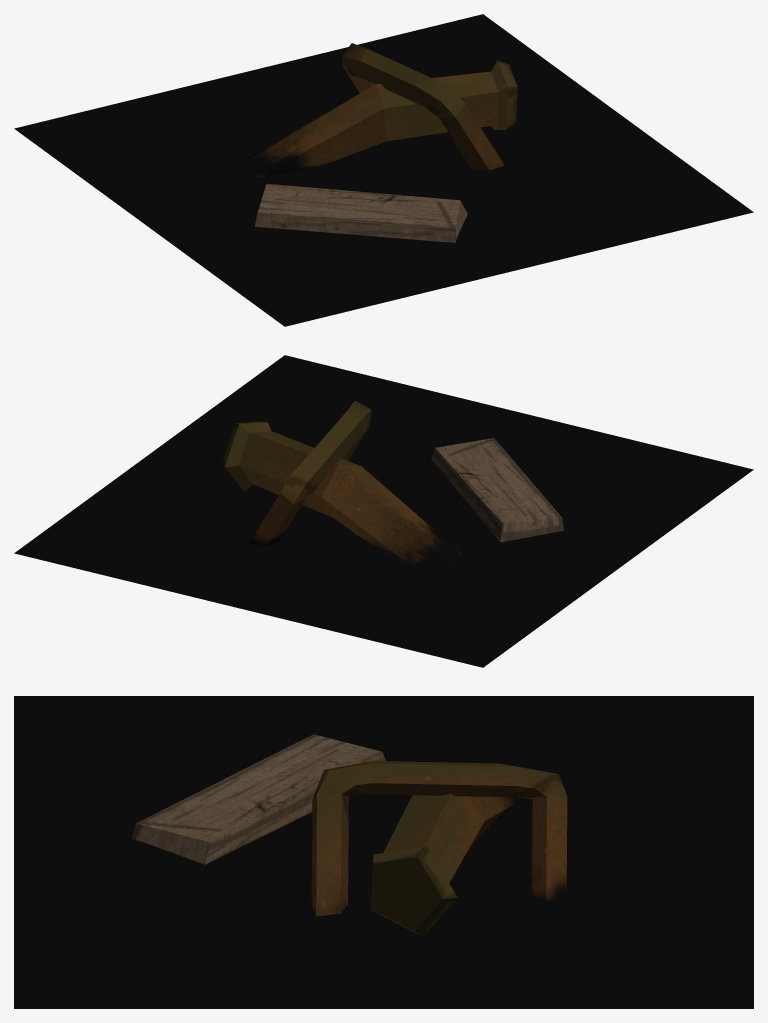
File: pitFall_mid01.fbx
3 renders of one model, top to bottom at view 1: azimuth 30°, elevation 25°; view 2: azimuth 150°, elevation 25°; view 3: azimuth 270°, elevation 25°, orthographic. The views are drawn at different scales.
Parts seen in each view (by area): view 1: pitFall_mid01; view 2: pitFall_mid01; view 3: pitFall_mid01.
Part boxes in pixels (<box>): pitFall_mid01: <box>14,14,753,326</box>; pitFall_mid01: <box>14,355,753,667</box>; pitFall_mid01: <box>14,696,753,1008</box>.
Size of the model in its own units: 100 by 23.54 by 100.
